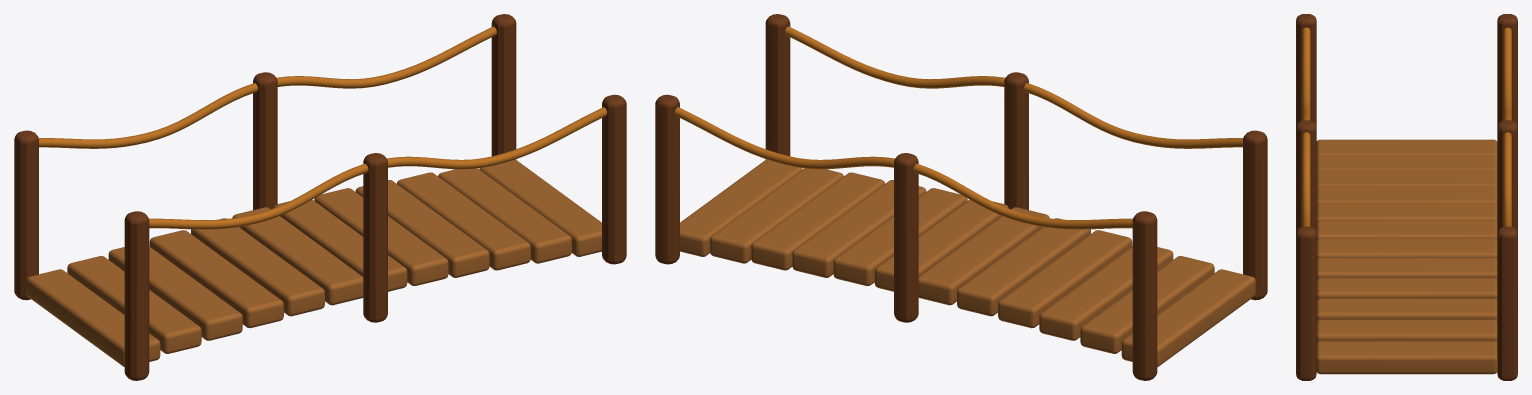
The model's file is wood_bridge.glb.
3 views of the same model, side by side, from view 1: azimuth 30°, elevation 25°; view 2: azimuth 150°, elevation 25°; view 3: azimuth 270°, elevation 25° (orthographic). The views are drawn at different scales.
Parts seen in each view (by area): view 1: wood_bridge_plank.003, wood_bridge_plank, wood_bridge_plank.004, rope_rail, rope_rail.001, wood_bridge_plank.009, wood_bridge_plank.005, wood_bridge_plank.010, wood_post, wood_bridge_plank.002, wood_bridge_plank.011, wood_post.001 (+8 smaller); view 2: wood_bridge_plank.003, wood_bridge_plank, wood_bridge_plank.004, rope_rail.001, rope_rail, wood_bridge_plank.009, wood_bridge_plank.005, wood_bridge_plank.010, wood_post.003, wood_bridge_plank.002, wood_bridge_plank.011, wood_post.004 (+8 smaller); view 3: wood_bridge_plank.011, wood_bridge_plank.010, wood_bridge_plank.009, wood_bridge_plank.008, wood_bridge_plank.007, wood_bridge_plank.006, wood_bridge_plank.005, wood_bridge_plank.004, wood_post.002, wood_post.005, wood_bridge_plank.003, wood_bridge_plank.002 (+8 smaller).
Part boxes in pixels (bbox=[...]): wood_bridge_plank.003: bbox=[149, 230, 283, 328]; wood_bridge_plank: bbox=[26, 269, 160, 366]; wood_bridge_plank.004: bbox=[191, 218, 324, 316]; rope_rail: bbox=[149, 107, 607, 229]; rope_rail.001: bbox=[38, 26, 496, 148]; wood_bridge_plank.009: bbox=[397, 172, 530, 270]; wood_bridge_plank.005: bbox=[232, 207, 363, 305]; wood_bridge_plank.010: bbox=[438, 168, 571, 263]; wood_post: bbox=[124, 211, 149, 380]; wood_bridge_plank.002: bbox=[108, 246, 242, 340]; wood_bridge_plank.011: bbox=[479, 159, 601, 256]; wood_post.001: bbox=[363, 153, 387, 322]; wood_bridge_plank.003: bbox=[998, 230, 1132, 328]; wood_bridge_plank: bbox=[1121, 269, 1255, 366]; wood_bridge_plank.004: bbox=[957, 218, 1090, 316]; rope_rail.001: bbox=[674, 107, 1132, 229]; rope_rail: bbox=[785, 26, 1243, 148]; wood_bridge_plank.009: bbox=[751, 172, 884, 270]; wood_bridge_plank.005: bbox=[918, 207, 1049, 305]; wood_bridge_plank.010: bbox=[710, 168, 843, 263]; wood_post.003: bbox=[1132, 211, 1157, 380]; wood_bridge_plank.002: bbox=[1039, 246, 1173, 340]; wood_bridge_plank.011: bbox=[680, 159, 802, 256]; wood_post.004: bbox=[894, 153, 918, 322]; wood_bridge_plank.011: bbox=[1316, 341, 1497, 374]; wood_bridge_plank.010: bbox=[1316, 320, 1497, 342]; wood_bridge_plank.009: bbox=[1316, 298, 1497, 321]; wood_bridge_plank.008: bbox=[1316, 278, 1497, 300]; wood_bridge_plank.007: bbox=[1316, 258, 1497, 279]; wood_bridge_plank.006: bbox=[1316, 238, 1497, 259]; wood_bridge_plank.005: bbox=[1316, 220, 1497, 240]; wood_bridge_plank.004: bbox=[1316, 203, 1497, 221]; wood_post.002: bbox=[1296, 226, 1316, 380]; wood_post.005: bbox=[1497, 226, 1517, 380]; wood_bridge_plank.003: bbox=[1316, 186, 1497, 204]; wood_bridge_plank.002: bbox=[1316, 170, 1497, 187].
Size of the model in its own units: 3.02 by 0.95 by 1.28.
